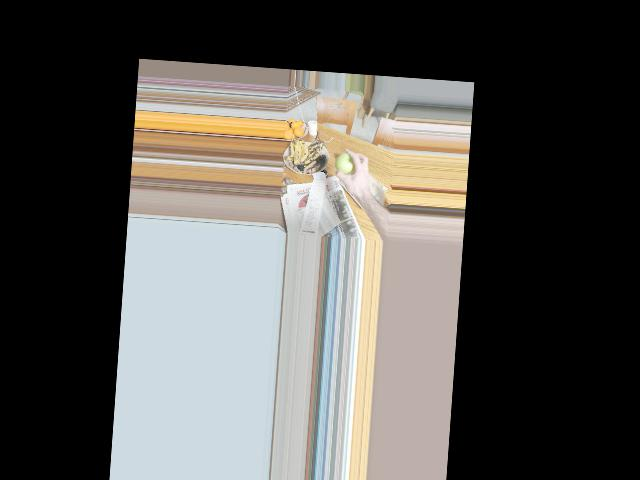apple: (333, 149, 357, 175)
